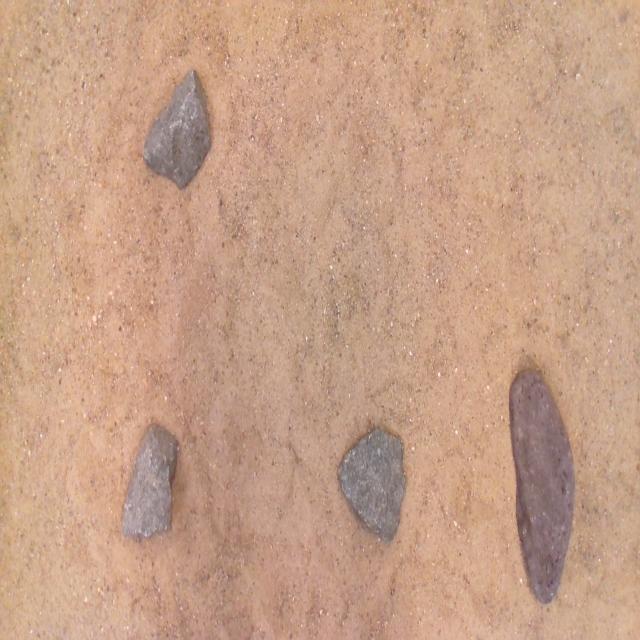rock: (509, 370, 575, 603), (143, 69, 211, 188), (339, 428, 406, 542), (122, 424, 177, 536)
